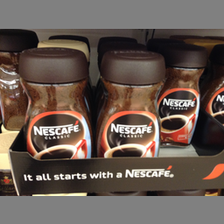coffee: (17, 46, 93, 159), (93, 48, 166, 157), (158, 42, 208, 146)
